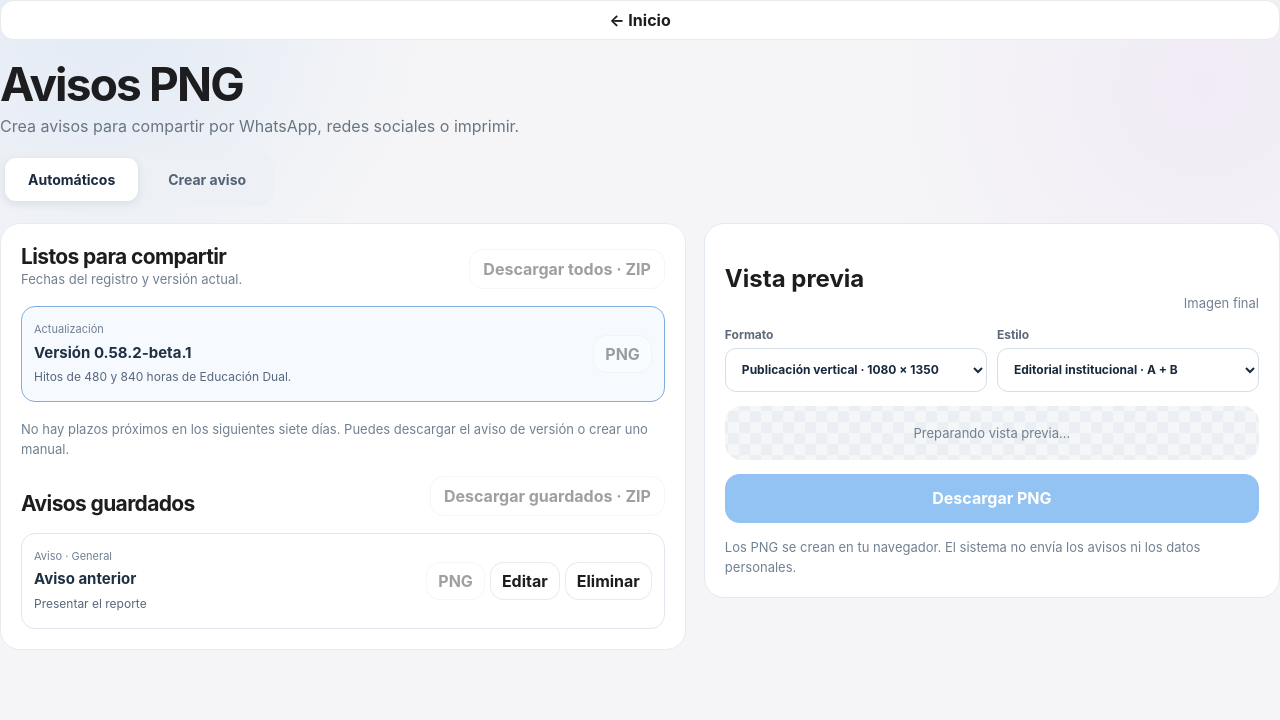
it: v0.56.1 · generador de avisos PNG › conserva avisos antiguos editables y exportables
Check: the text "Aviso anterior" is shown, box [34, 570, 136, 588]
What coordinates should you click on to do the following:
click the button "Editar"
I would click on:
 (525, 581)
Its box is [490, 562, 560, 600].
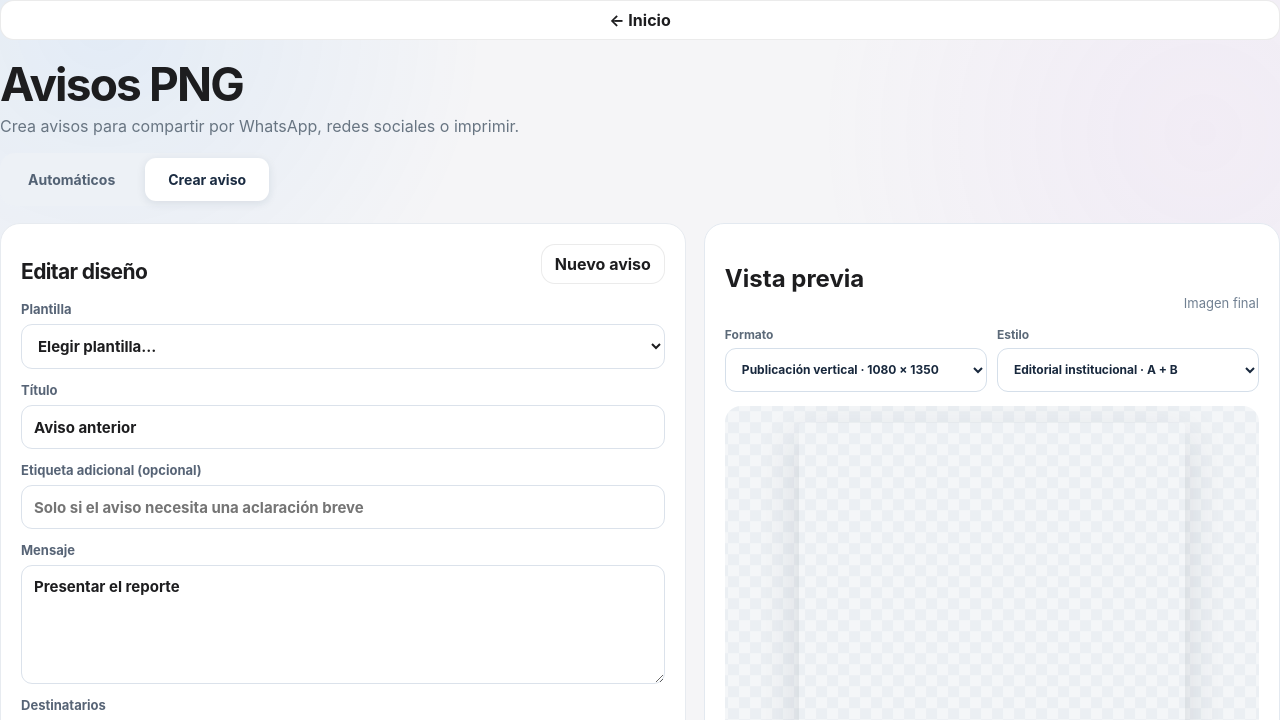
Check: the field labelled "Título" holds "Aviso anterior", box [21, 405, 665, 449]
